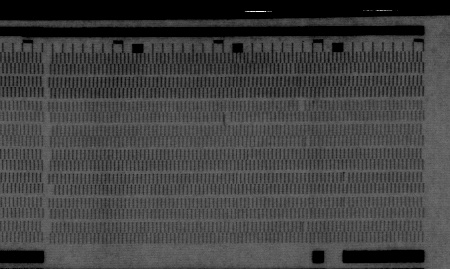Broken hole: (296, 100, 307, 114), (221, 111, 232, 125), (47, 183, 57, 195)
Oblique printing: (298, 220, 311, 233), (301, 134, 312, 149), (339, 170, 350, 184)
